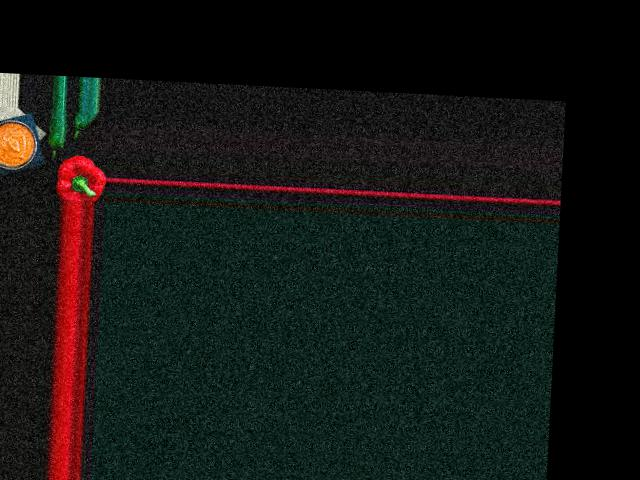bell_pepper: (55, 156, 105, 202)
